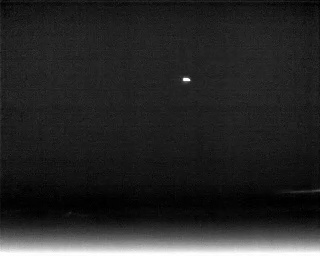AIRPLANE: (180, 74, 193, 85)
